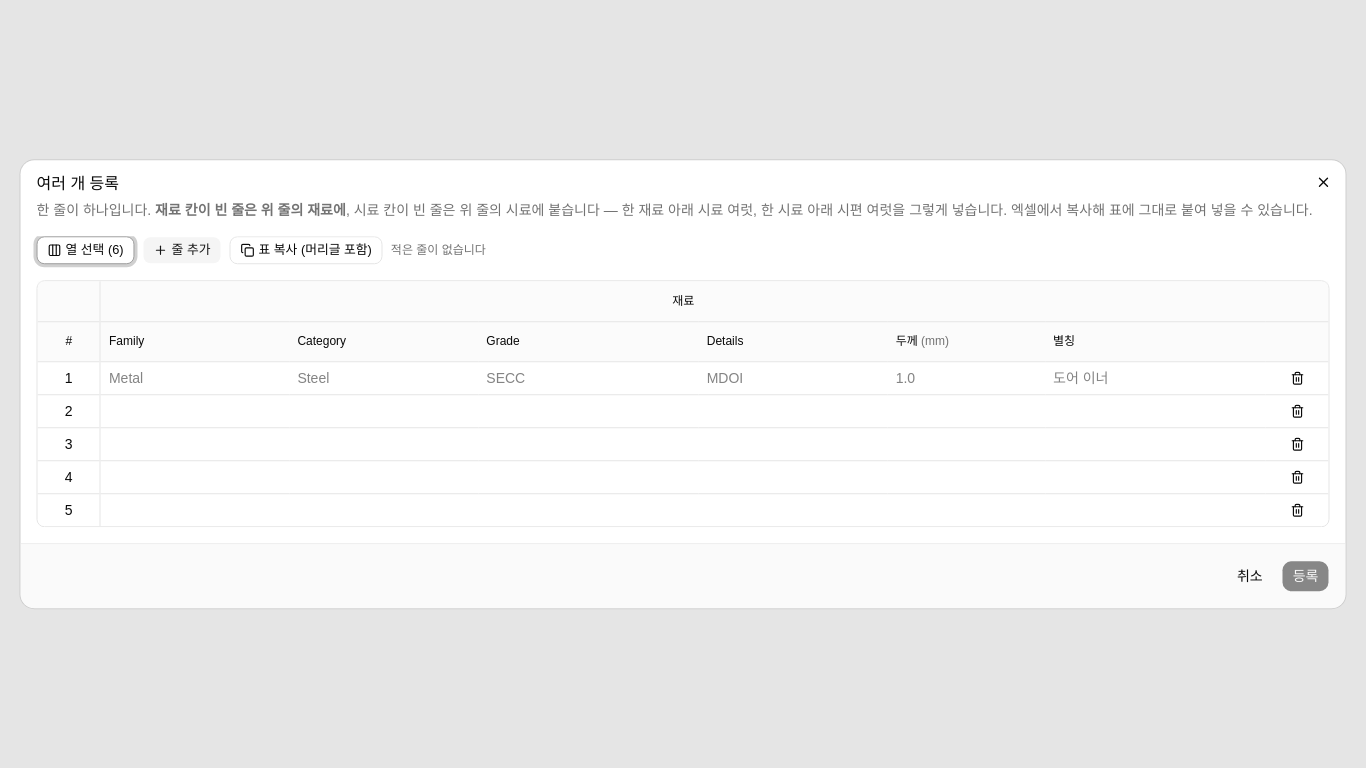
Test: 여러 개 등록 › 열을 켜면 그 칸이 표에 생긴다
Press Enter in the button "열 선택 (6)", box [36,236,135,264]
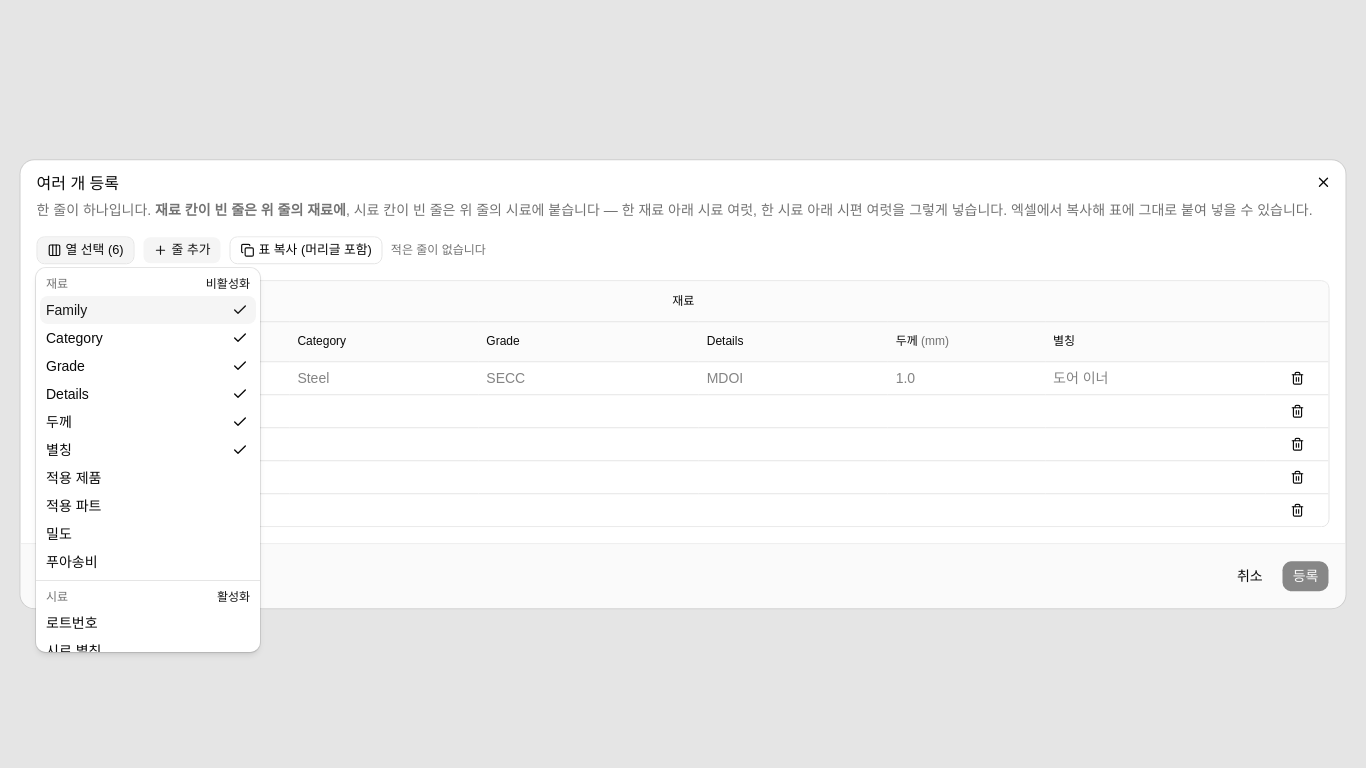
Click the button with aria-label "시료 열 활성화": [233, 597] box [217,589,250,605]
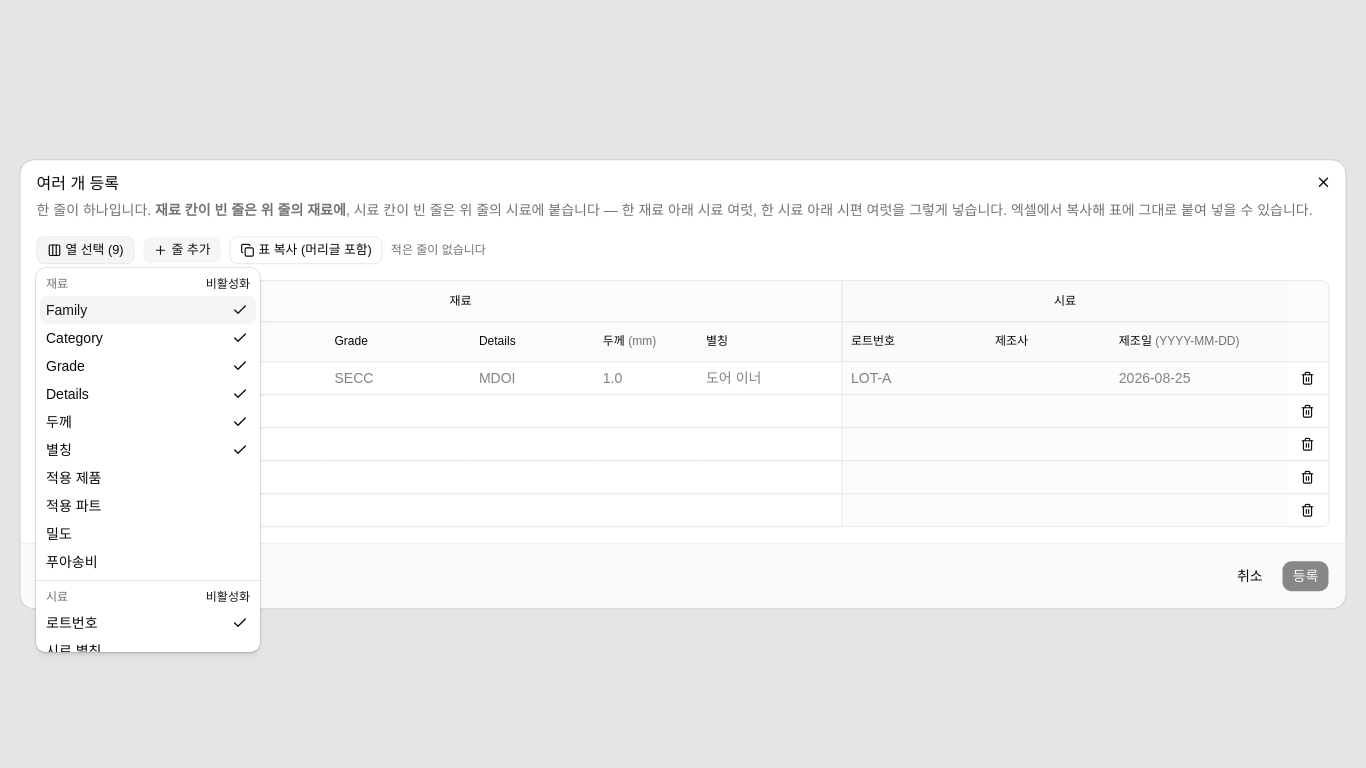
expect the field named "1번 줄 시료 로트번호" is shown: met, box [843,362,987,394]
